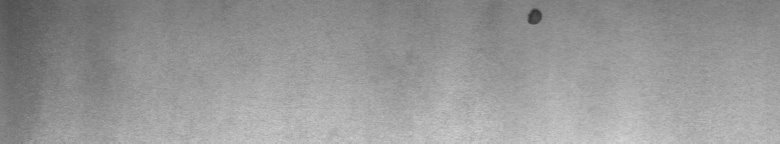fi: (521, 4, 548, 32)
